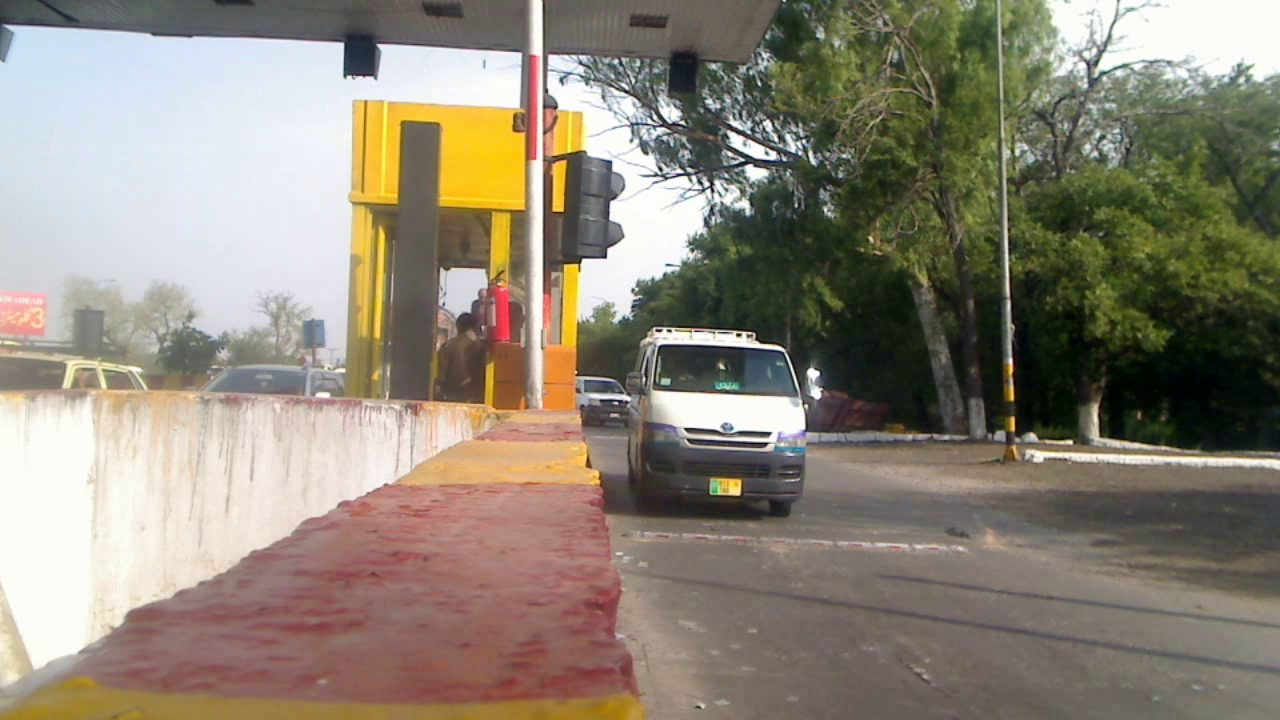Number Plate (Car): (712, 477, 741, 494)
